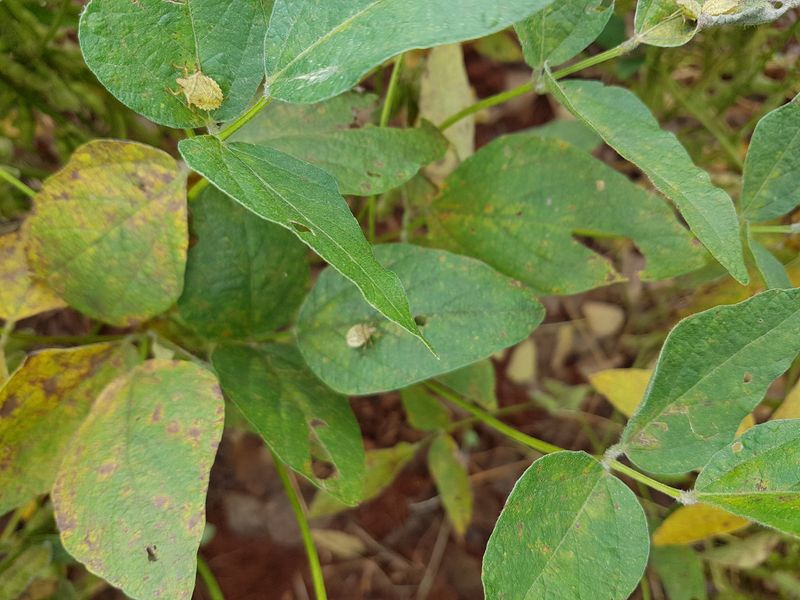Nezara_viridula_ninfa: (158, 56, 233, 124), (338, 317, 386, 356)
